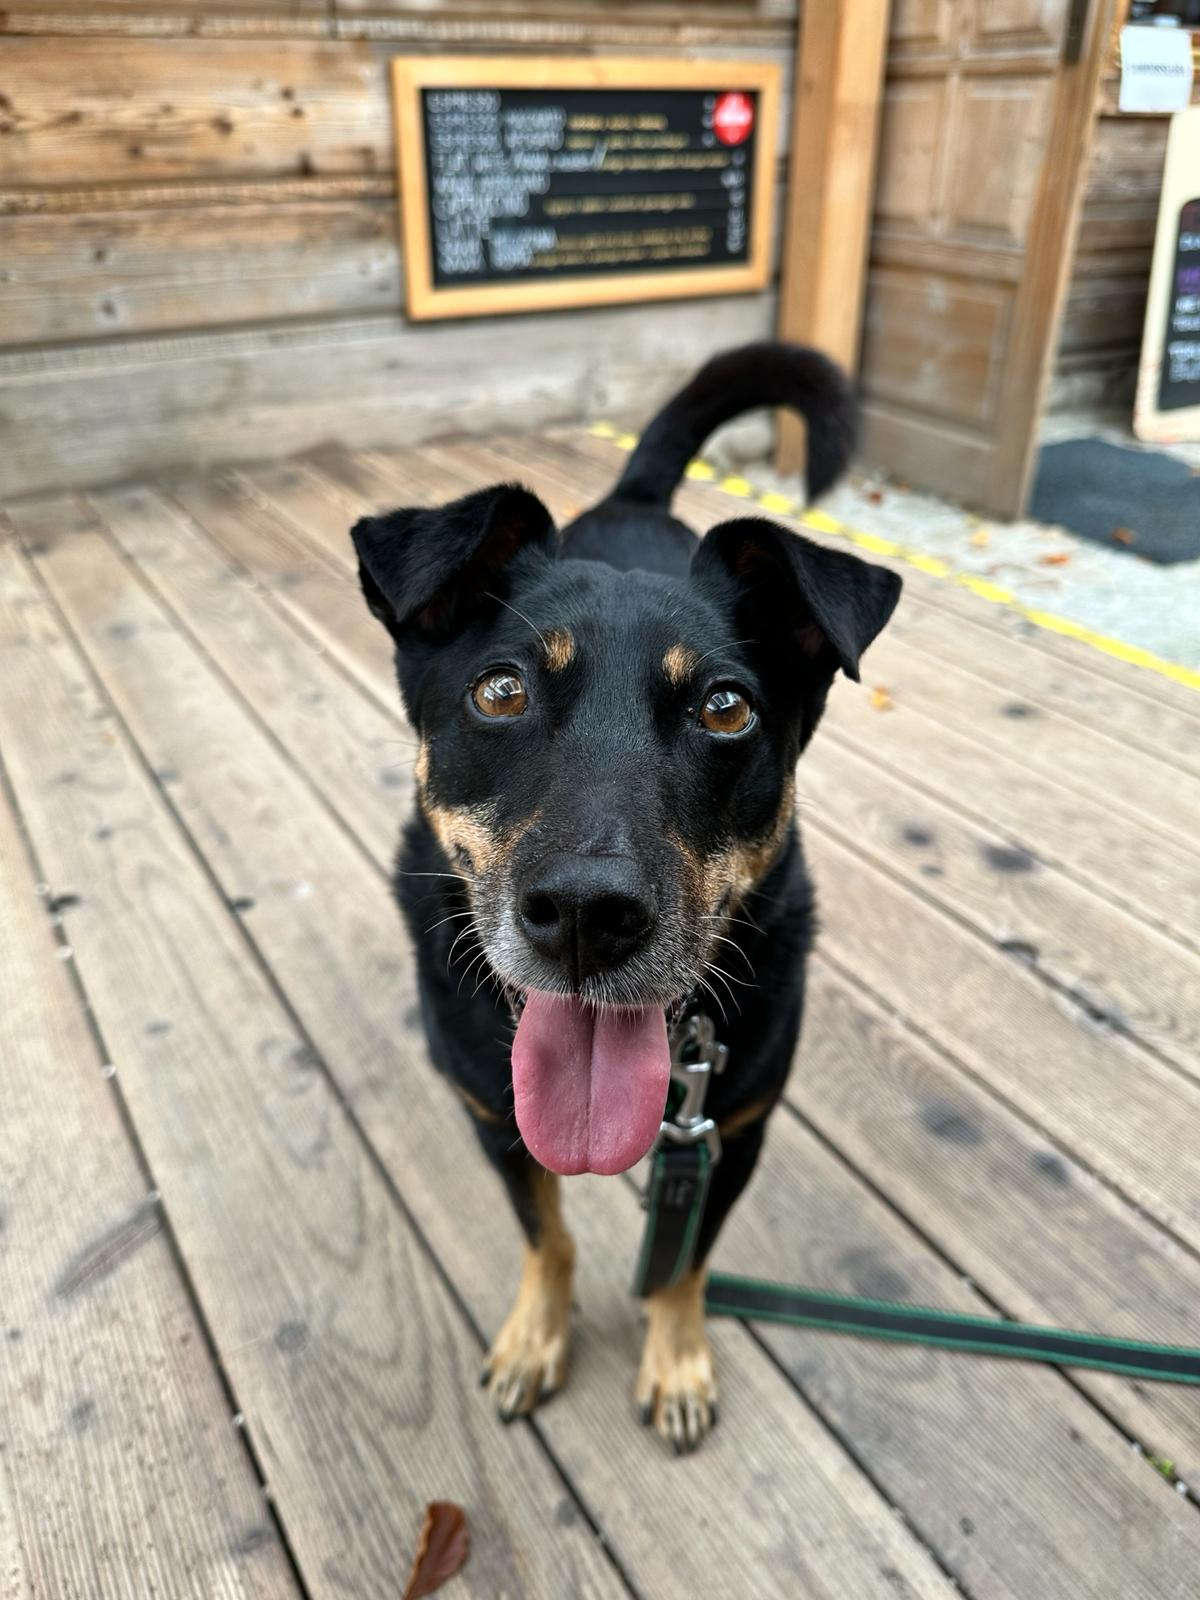reksio: (217, 278, 1061, 1386)
